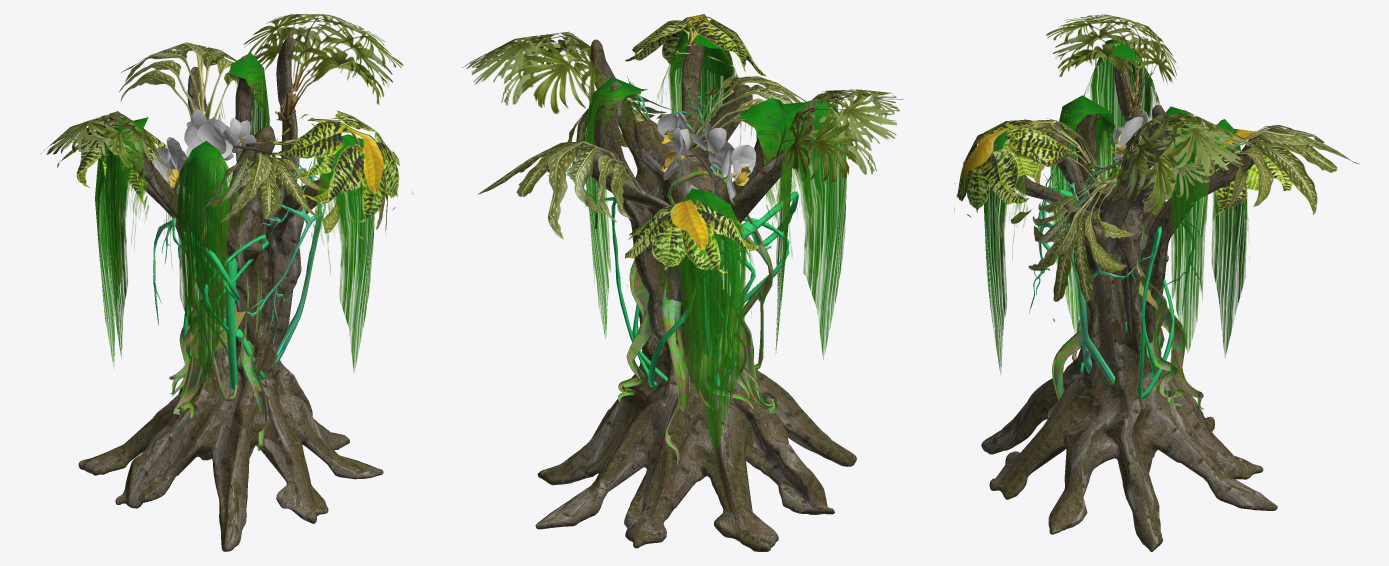
The model's file is newworldtree1.glb.
3 views of the same model, side by side, from view 1: azimuth 30°, elevation 25°; view 2: azimuth 150°, elevation 25°; view 3: azimuth 270°, elevation 25° (orthographic). The views are drawn at different scales.
Parts seen in each view (by area): view 1: BézierCurve.001, leaves.015, leaves.012, leaves.014, leaves.004, leaves.001, leaves.016, stamen.003, leaves.009, leaves.011, leaves.002, stamen.013 (+9 smaller); view 2: BézierCurve.001, leaves.002, leaves.001, leaves.011, leaves.012, leaves.013, leaves.009, stamen.003, leaves.003, leaves.015, leaves.014, leaves.004 (+9 smaller); view 3: BézierCurve.001, leaves.012, leaves.014, leaves.003, leaves.010, leaves.011, leaves.009, leaves.002, leaves.001, leaves.004, leaves.015, stamen.013 (+8 smaller).
Boxes of the visible parts, box(x1,y1,x2,y2) form: BézierCurve.001: box(78, 36, 383, 551); leaves.015: box(164, 140, 244, 387); leaves.012: box(243, 14, 403, 123); leaves.014: box(273, 110, 413, 239); leaves.004: box(311, 134, 374, 372); leaves.001: box(104, 117, 148, 359); leaves.016: box(201, 154, 333, 250); stamen.003: box(151, 109, 296, 292); leaves.009: box(119, 42, 262, 121); leaves.011: box(40, 111, 169, 169); leaves.002: box(95, 137, 152, 369); stamen.013: box(247, 117, 325, 364); BézierCurve.001: box(535, 39, 856, 551); leaves.002: box(653, 188, 754, 455); leaves.001: box(772, 98, 846, 359); leaves.011: box(773, 89, 903, 183); leaves.012: box(462, 31, 633, 113); leaves.013: box(625, 198, 758, 286); leaves.009: box(478, 141, 642, 239); stamen.003: box(656, 112, 756, 346); leaves.003: box(584, 77, 652, 338); leaves.015: box(739, 98, 791, 354); leaves.014: box(625, 14, 766, 85); leaves.004: box(656, 26, 751, 180); BézierCurve.001: box(981, 40, 1277, 551); leaves.012: box(1106, 113, 1261, 214); leaves.014: box(954, 118, 1082, 238); leaves.003: box(1128, 106, 1236, 352); leaves.010: box(1010, 173, 1145, 321); leaves.011: box(1046, 14, 1178, 117); leaves.009: box(1209, 125, 1359, 214); leaves.002: box(1206, 119, 1249, 358); leaves.001: box(1083, 39, 1159, 185); leaves.004: box(983, 133, 1027, 374); leaves.015: box(1050, 95, 1121, 333); stamen.013: box(1029, 162, 1168, 384).
Size of the model in its own units: 13.21 by 12.98 by 11.8.
9 materials, 9 textured.
